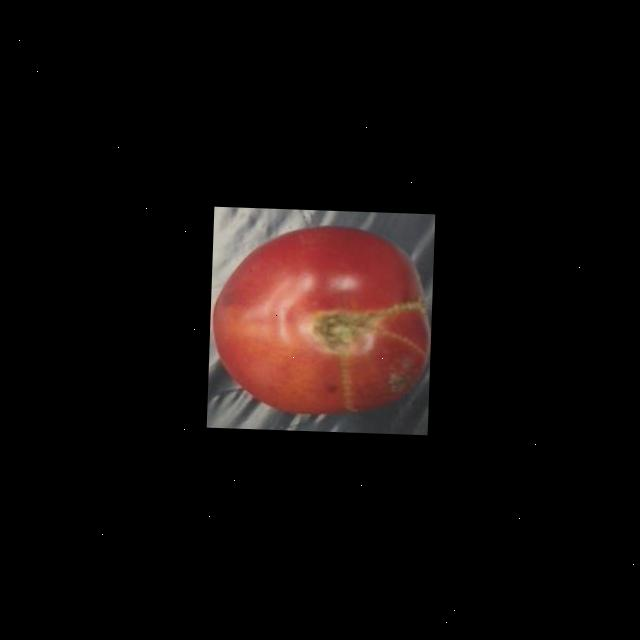tomato: (206, 214, 433, 423)
